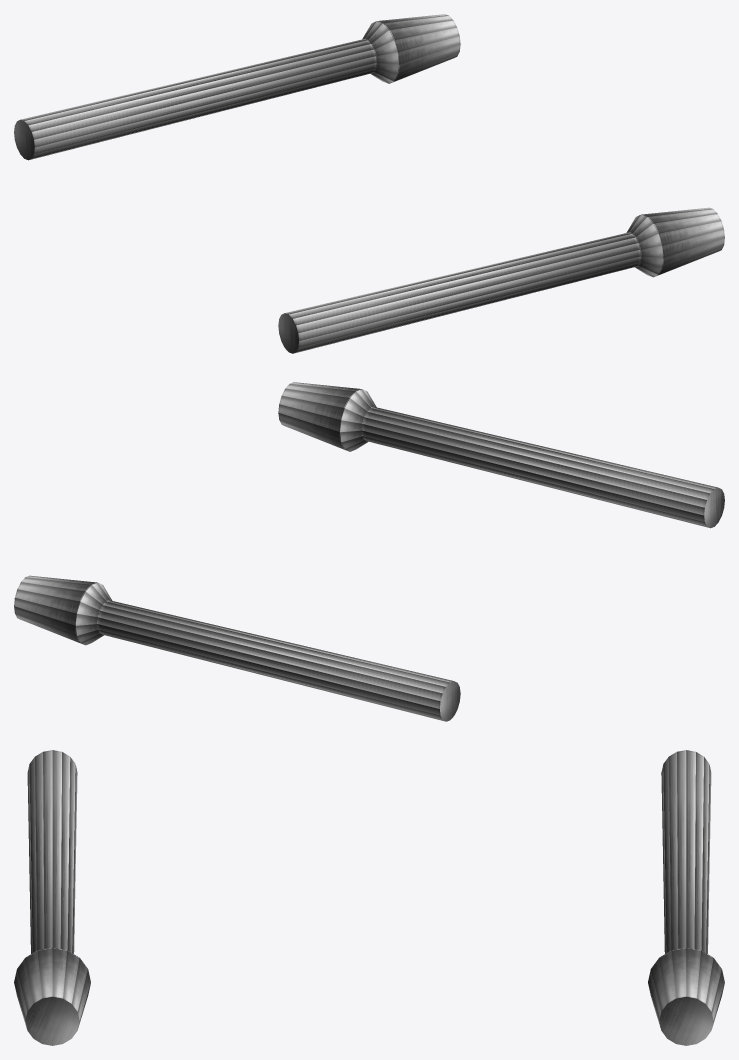
Rendered from Player.obj.
3 renders of one model, top to bottom at view 1: azimuth 30°, elevation 25°; view 2: azimuth 150°, elevation 25°; view 3: azimuth 270°, elevation 25°, orthographic. The views are drawn at different scales.
Parts seen in each view (by area): view 1: Cylinder_Cylinder.001, Cylinder.001_Cylinder.002; view 2: Cylinder.001_Cylinder.002, Cylinder_Cylinder.001; view 3: Cylinder.001_Cylinder.002, Cylinder_Cylinder.001.
Boxes of the visible parts, x1,y1,x2,y2 form: Cylinder_Cylinder.001: (14,14,460,160); Cylinder.001_Cylinder.002: (278,207,724,353); Cylinder.001_Cylinder.002: (278,382,724,528); Cylinder_Cylinder.001: (14,575,460,721); Cylinder.001_Cylinder.002: (14,750,90,1045); Cylinder_Cylinder.001: (648,750,724,1045).
Bounding box in the file's own units: 1.86 × 0.2434 × 2.24.
1 material, 1 textured.
